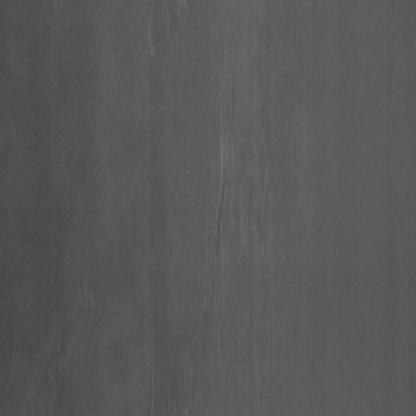silk_spot: (179, 88, 299, 281)
